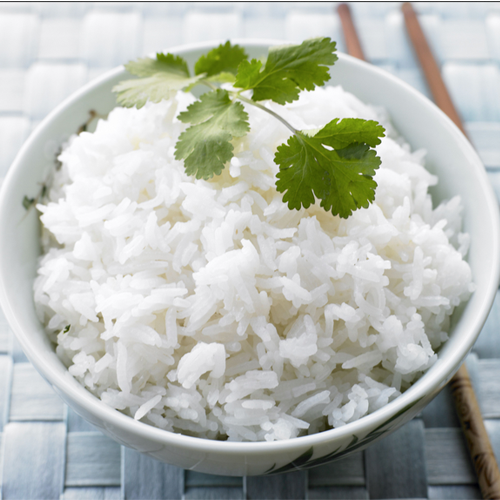plain rice: (42, 81, 446, 432)
